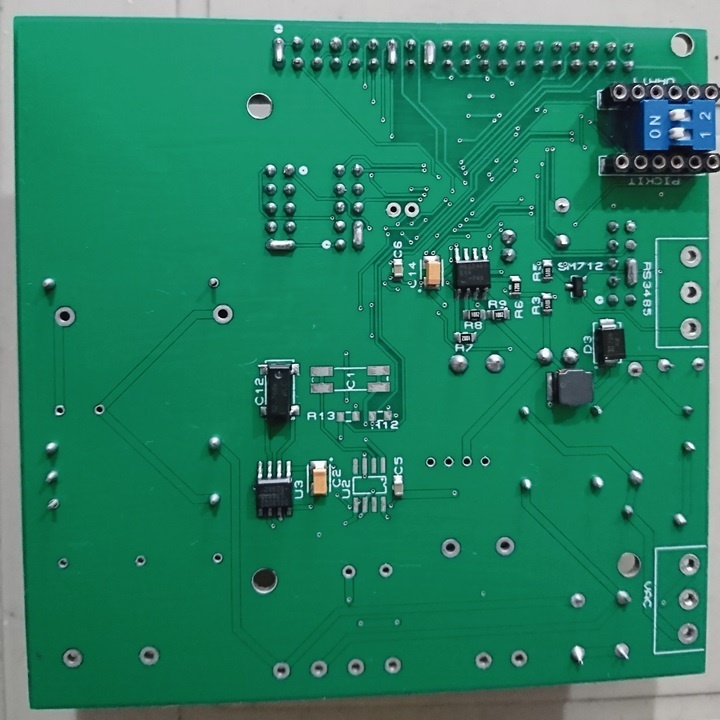F: (49, 303, 78, 332), (678, 279, 705, 308), (676, 243, 704, 270), (677, 316, 705, 342), (676, 550, 702, 578), (675, 586, 701, 612), (210, 301, 236, 326), (136, 644, 161, 669), (61, 646, 85, 672), (675, 621, 701, 645), (492, 534, 516, 558), (439, 538, 463, 561), (612, 640, 633, 666), (473, 649, 496, 672), (345, 657, 368, 679), (270, 660, 292, 682), (382, 654, 403, 676), (307, 660, 330, 680), (509, 646, 529, 669), (550, 195, 571, 215), (568, 592, 587, 614), (401, 200, 421, 220), (656, 356, 676, 375), (376, 560, 394, 580), (385, 200, 403, 220), (627, 359, 644, 380), (44, 495, 60, 515), (132, 553, 149, 571), (690, 355, 706, 372), (91, 401, 106, 419), (205, 276, 221, 292), (441, 455, 457, 471), (341, 564, 356, 581), (209, 550, 224, 566), (459, 454, 474, 470), (478, 454, 494, 469), (55, 556, 69, 570), (52, 404, 66, 418), (425, 455, 437, 471)
P: (262, 236, 299, 258), (349, 216, 367, 252), (270, 34, 287, 71), (421, 36, 438, 72), (383, 37, 399, 73), (624, 255, 639, 288)
